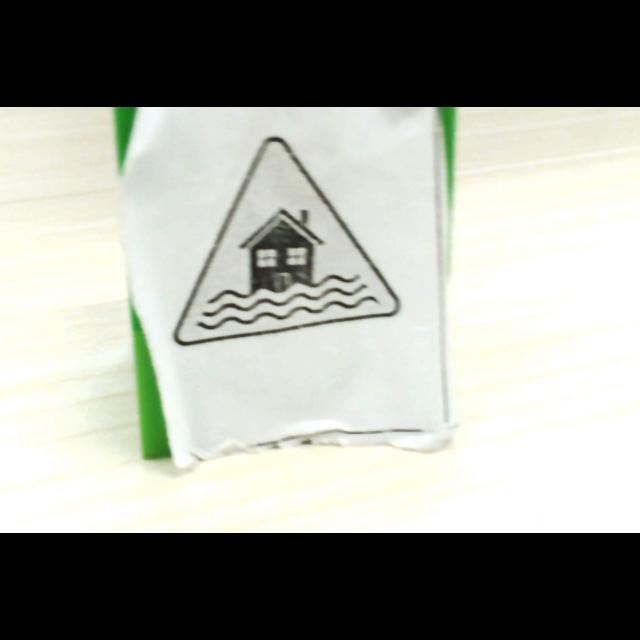Tsunami: (174, 137, 399, 346)
